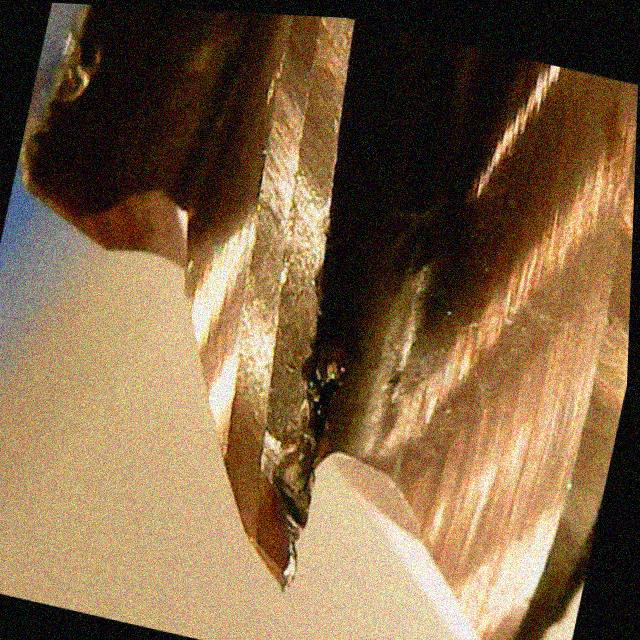Tool-wear-class-2: (171, 324, 371, 601)
